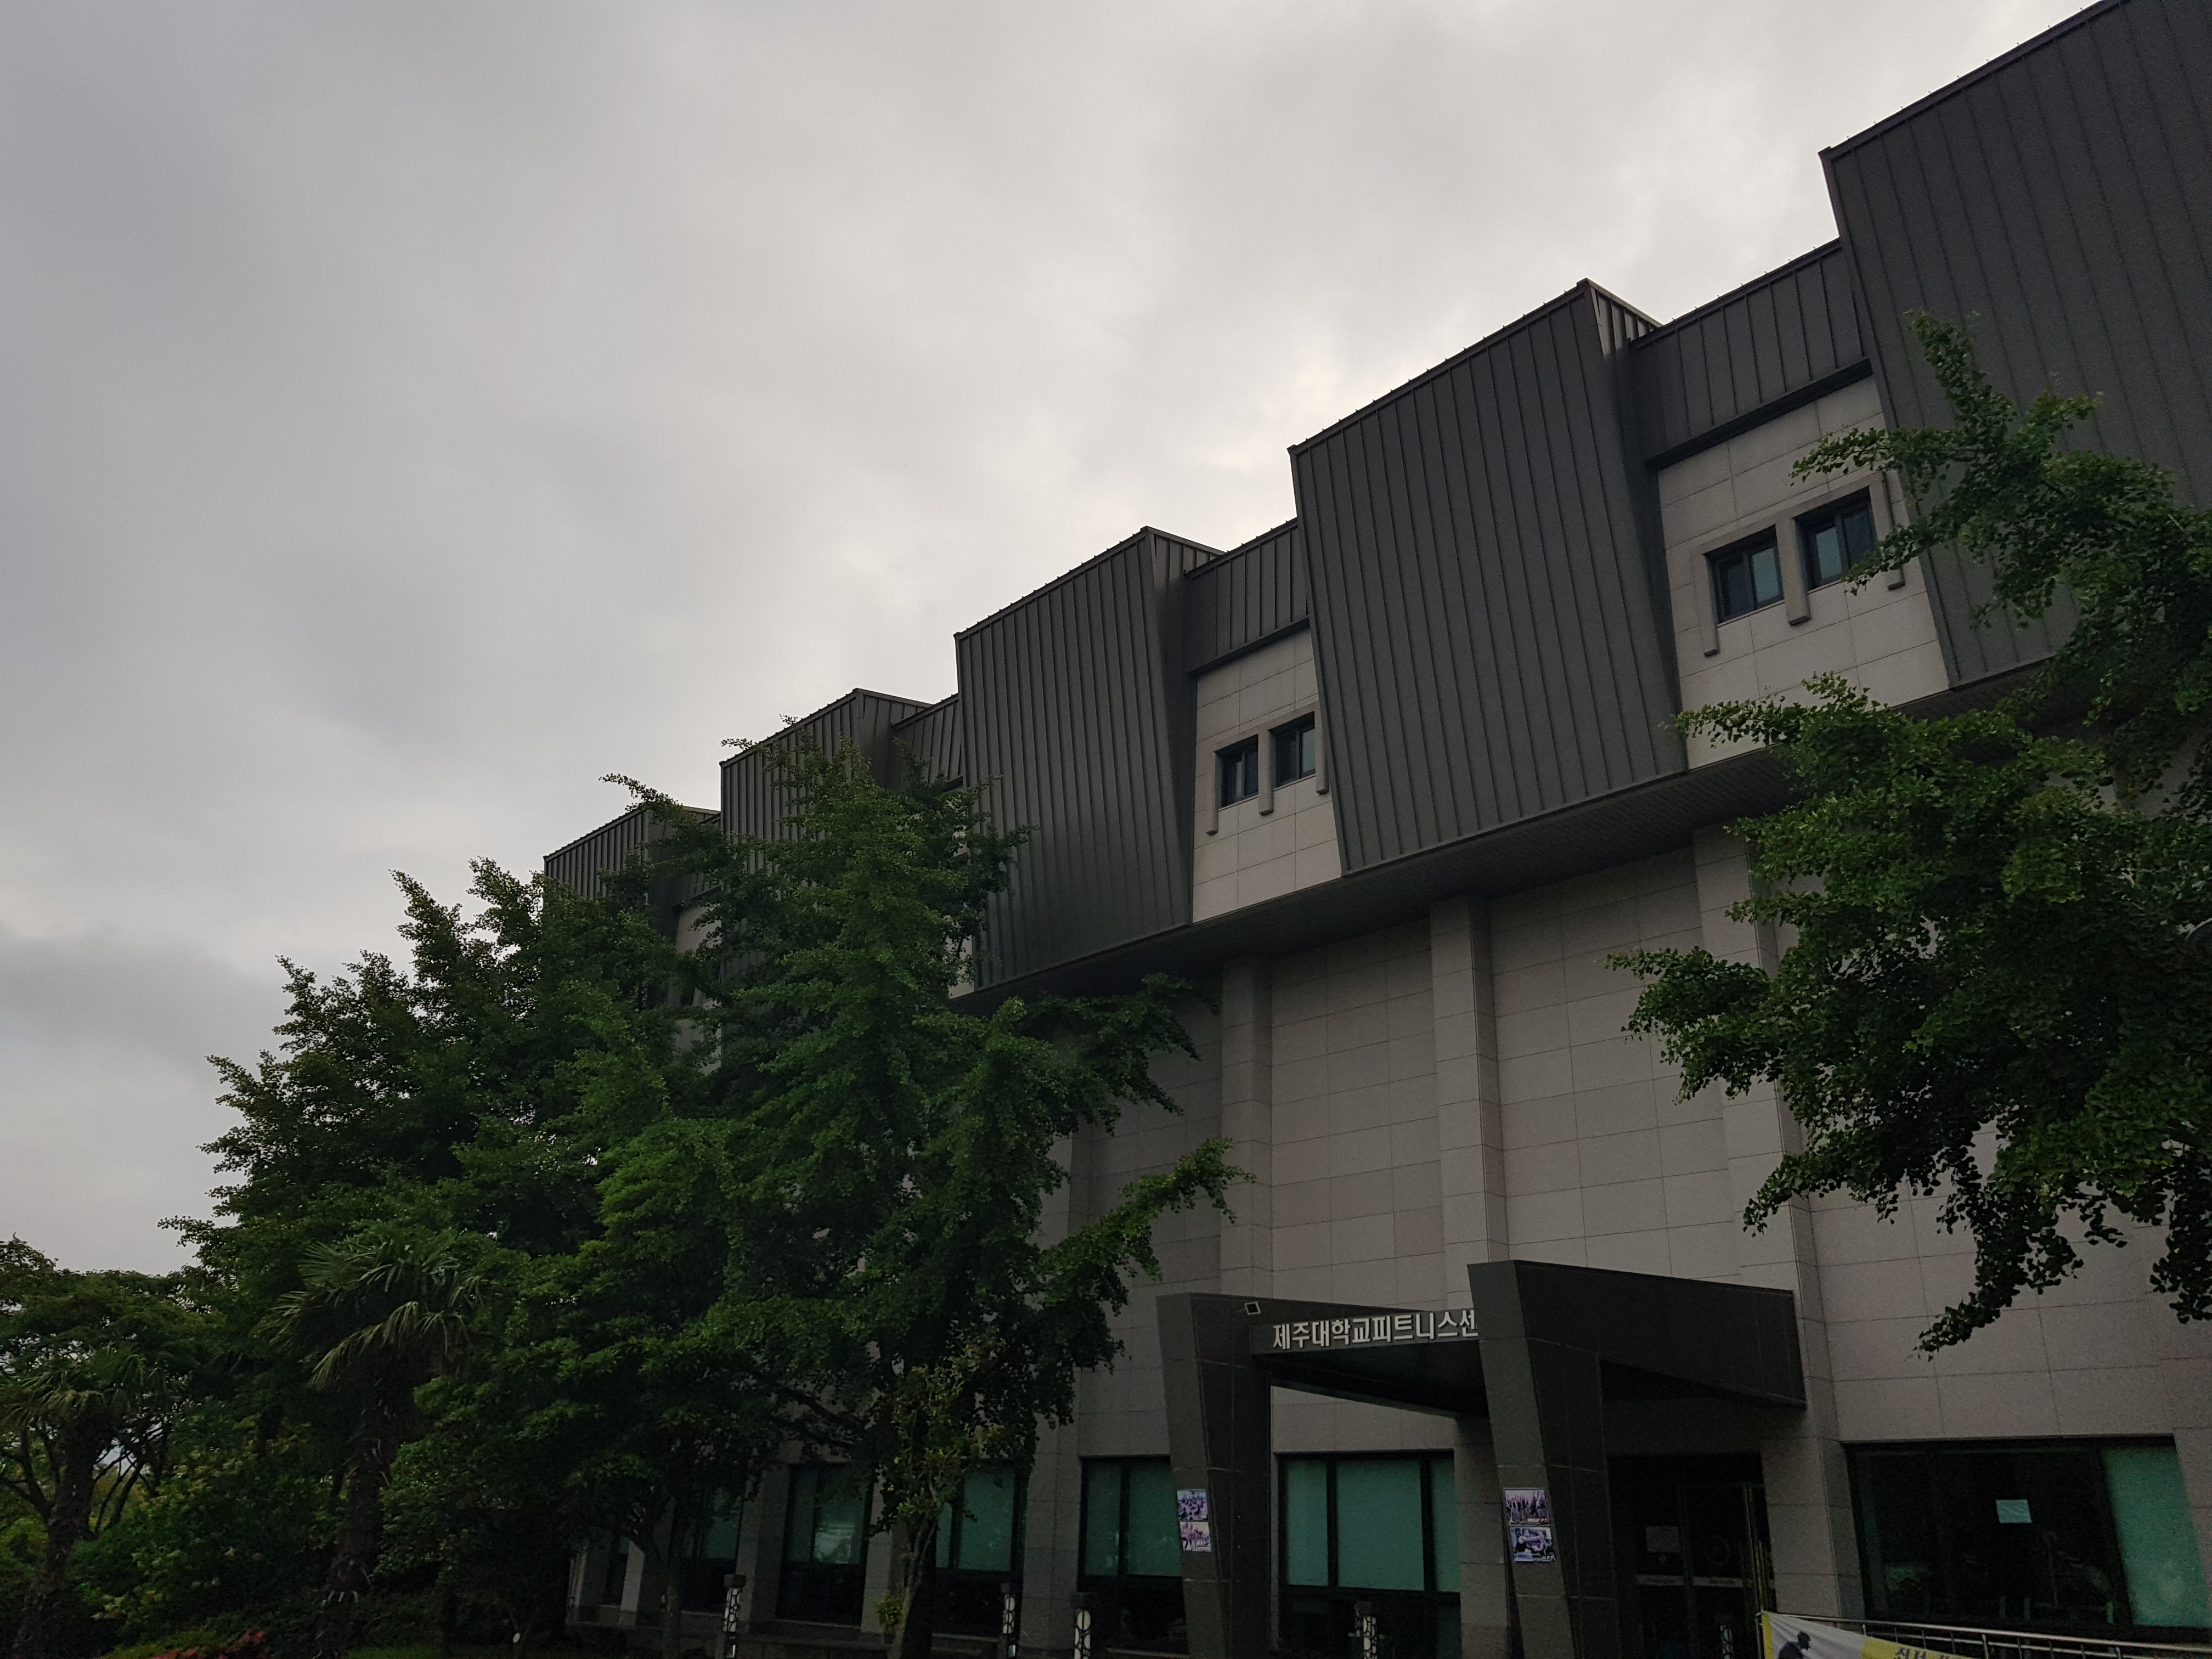Gym: (510, 82, 2196, 1638), (786, 171, 2069, 983), (1130, 1229, 1813, 1619)
